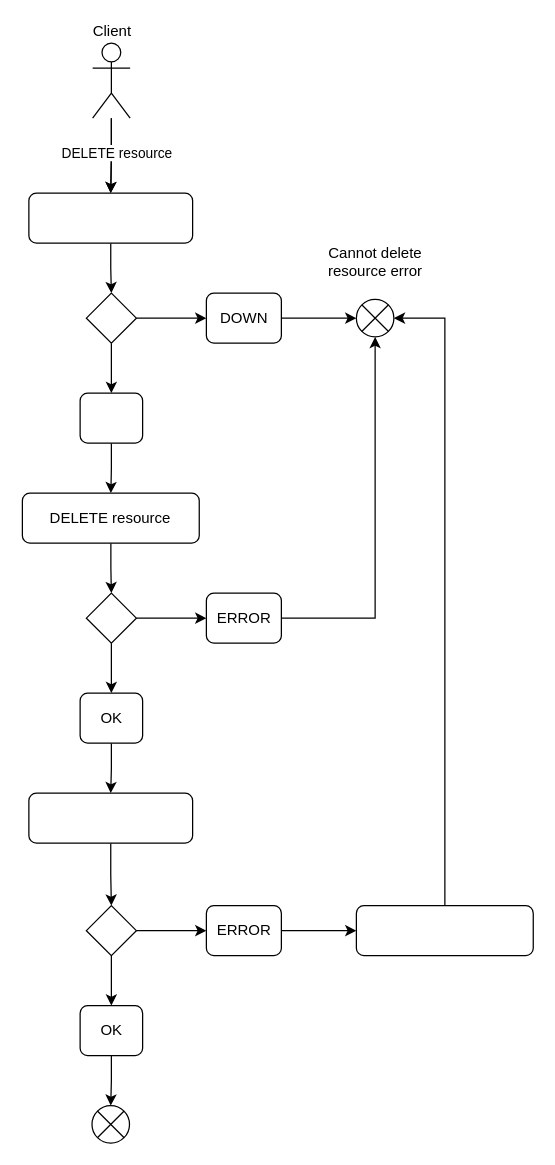
The diagram is 555 pixels wide and 1165 high, and some of its shapes have lost their labels. Each missing label, with the centre of its shape:
GET HEALTH portal: the point at 110,217
PUT STOP billing: the point at 110,817
Ticket-mail da billing portal a elemento: the point at 444,930
UP: the point at 111,417
